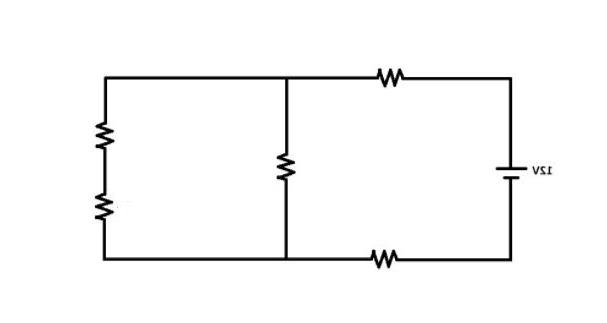resistor: (354, 230, 413, 282), (355, 56, 420, 101), (79, 178, 124, 242), (265, 129, 301, 200), (81, 105, 126, 160)
